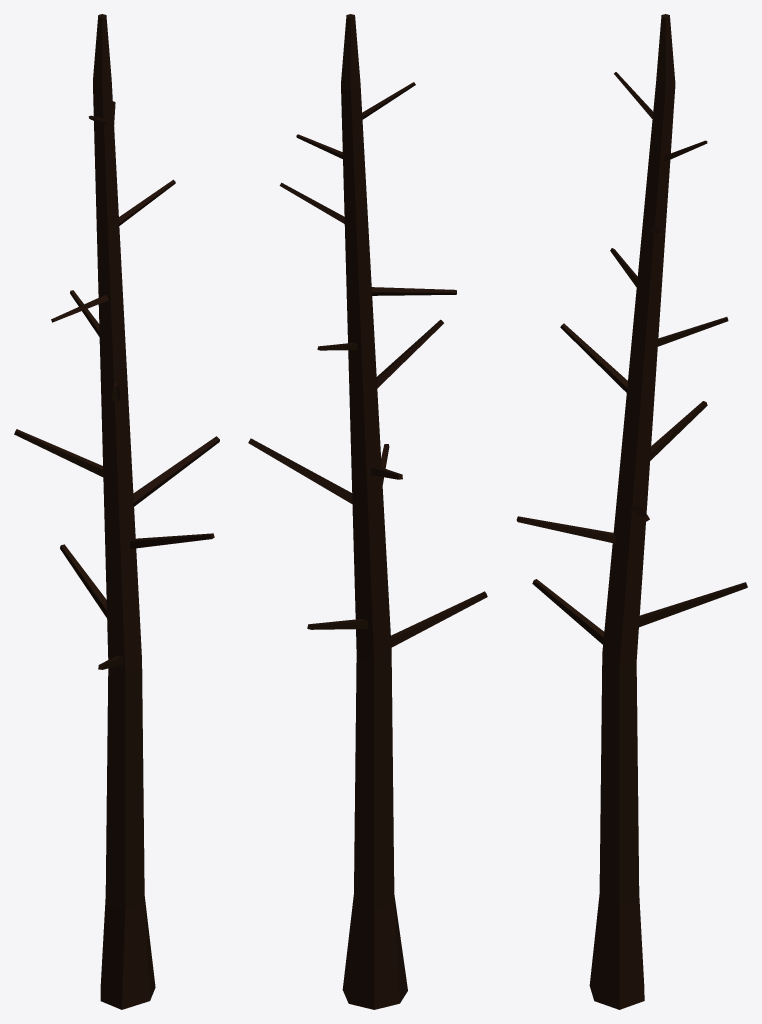
File: dead_tall_pine_tree2.obj
The picture shows the model from 3 angles, left to right: view 1: azimuth 30°, elevation 25°; view 2: azimuth 150°, elevation 25°; view 3: azimuth 270°, elevation 25°; orthographic projection. The views are drawn at different scales.
Visible parts, largest first — view 1: Tree5_1.001_Cube.039; view 2: Tree5_1.001_Cube.039; view 3: Tree5_1.001_Cube.039.
Part boxes in pixels (x1=…): Tree5_1.001_Cube.039: x1=14, y1=14, x2=219, y2=1009; Tree5_1.001_Cube.039: x1=248, y1=14, x2=487, y2=1009; Tree5_1.001_Cube.039: x1=516, y1=14, x2=747, y2=1009.
Size of the model in its own units: 2.7 by 13.49 by 2.89.
